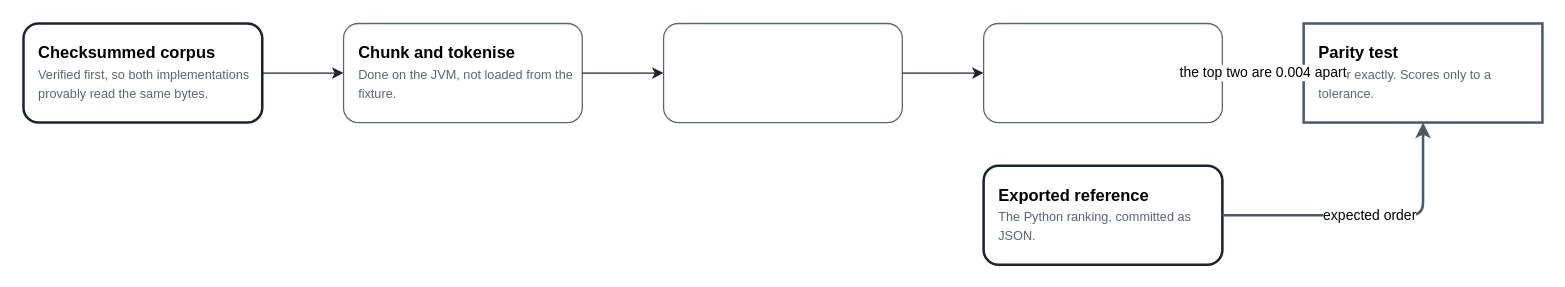
Image size: 1565x287. Some labels were removed from this diagram. Here are the shapes that lost their labels. From the top down, the centre of each, then its label:
At (x=782, y=72): "BM25 index Okapi scoring with the reference implementation's k1 and b.".
At (x=1102, y=72): "Rank fusion By position, so two score scales never have to be reconciled.".
